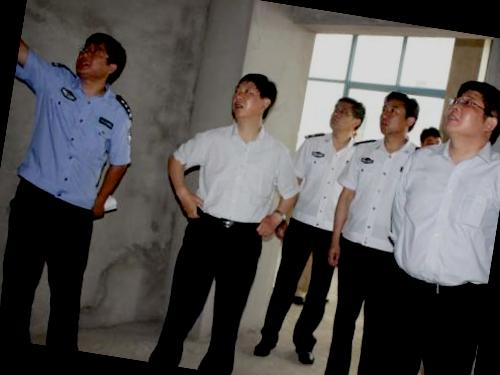no_helmet: (439, 73, 500, 155), (70, 26, 132, 94), (228, 68, 280, 130), (372, 87, 426, 144), (324, 90, 370, 138), (417, 121, 446, 160)
